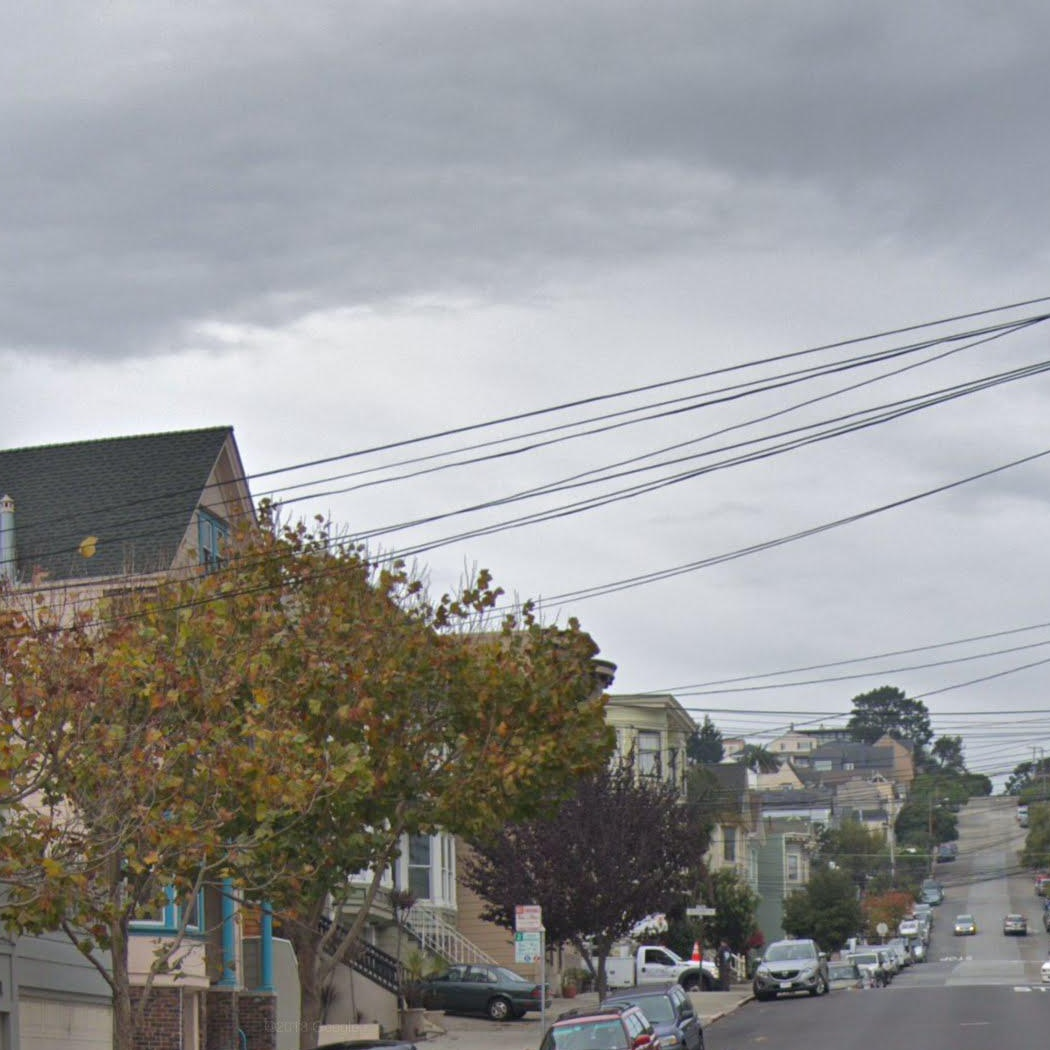2 Hour Parking: (514, 931, 540, 964)
No Parking: (515, 905, 541, 931)
